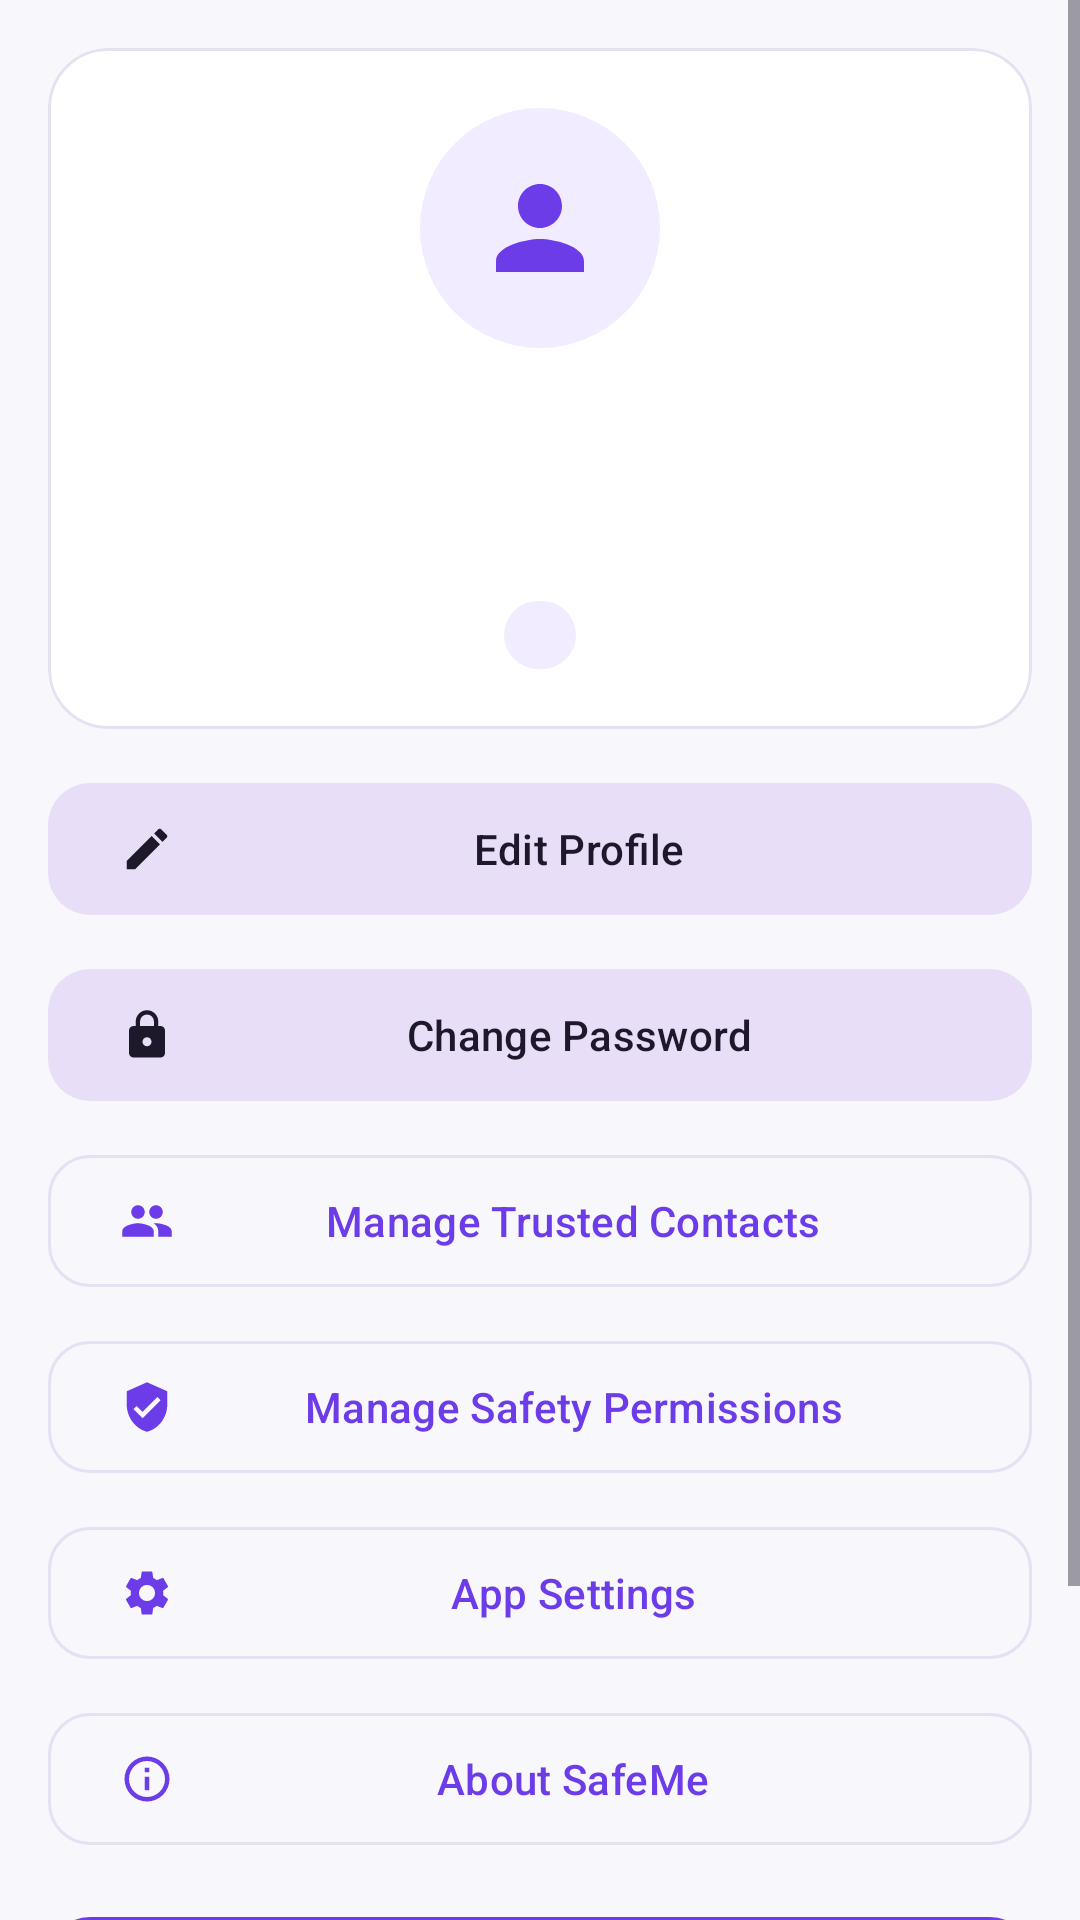

Icons on this 1080px x 1920px Android screen, each with its box as (x1, y1, x2, y2):
Profile photo: (496, 184, 584, 272)
